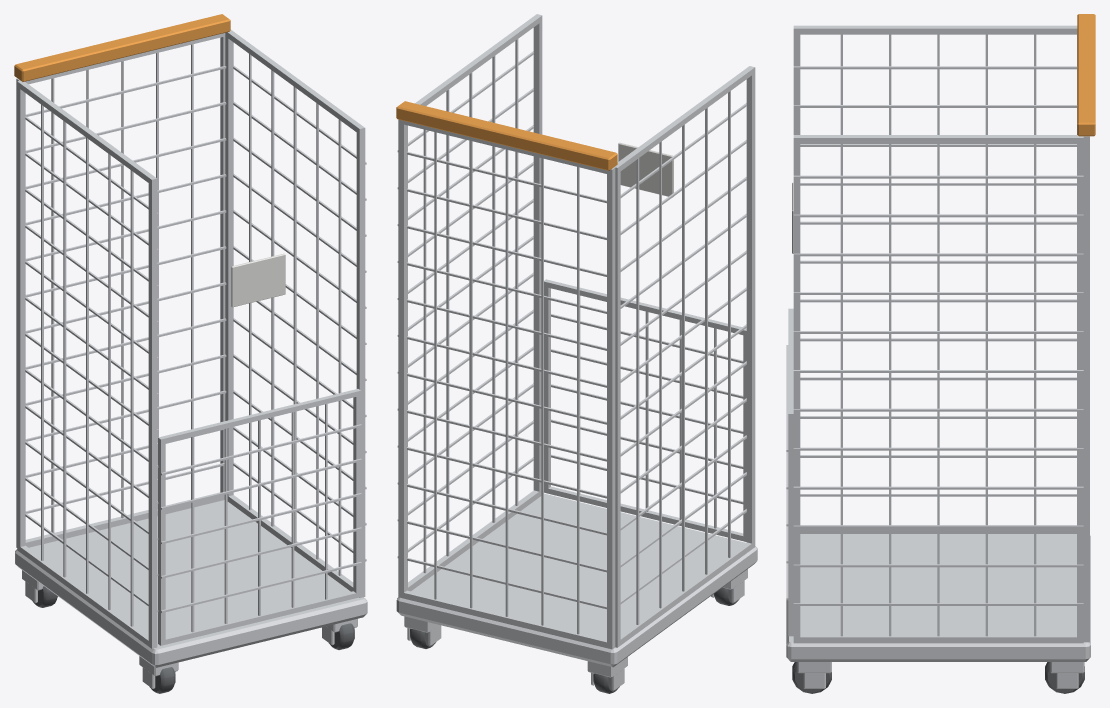
The model's file is order-picker-roll-cage.glb.
The picture shows the model from 3 angles, left to right: view 1: azimuth 30°, elevation 25°; view 2: azimuth 150°, elevation 25°; view 3: azimuth 270°, elevation 25°; orthographic projection. The views are drawn at different scales.
Parts seen in each view (by area): view 1: order-picker-cage, cage-gate; view 2: order-picker-cage, cage-gate; view 3: order-picker-cage, cage-gate.
Part boxes in pixels (x1,y1,x2,y2): order-picker-cage: (14, 14, 367, 693); cage-gate: (158, 389, 361, 645); order-picker-cage: (396, 14, 757, 693); cage-gate: (544, 279, 746, 541); order-picker-cage: (786, 14, 1095, 693); cage-gate: (786, 308, 793, 636).
Bounding box in the file's own units: 0.7219 × 1.71 × 0.8329.
